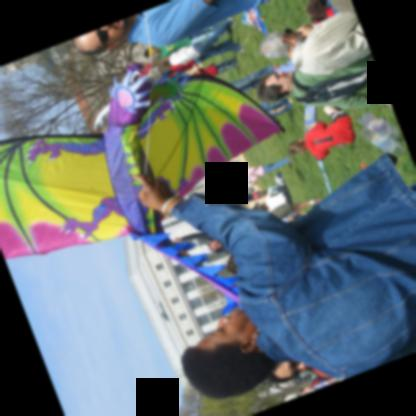backpack: (292, 69, 373, 101)
